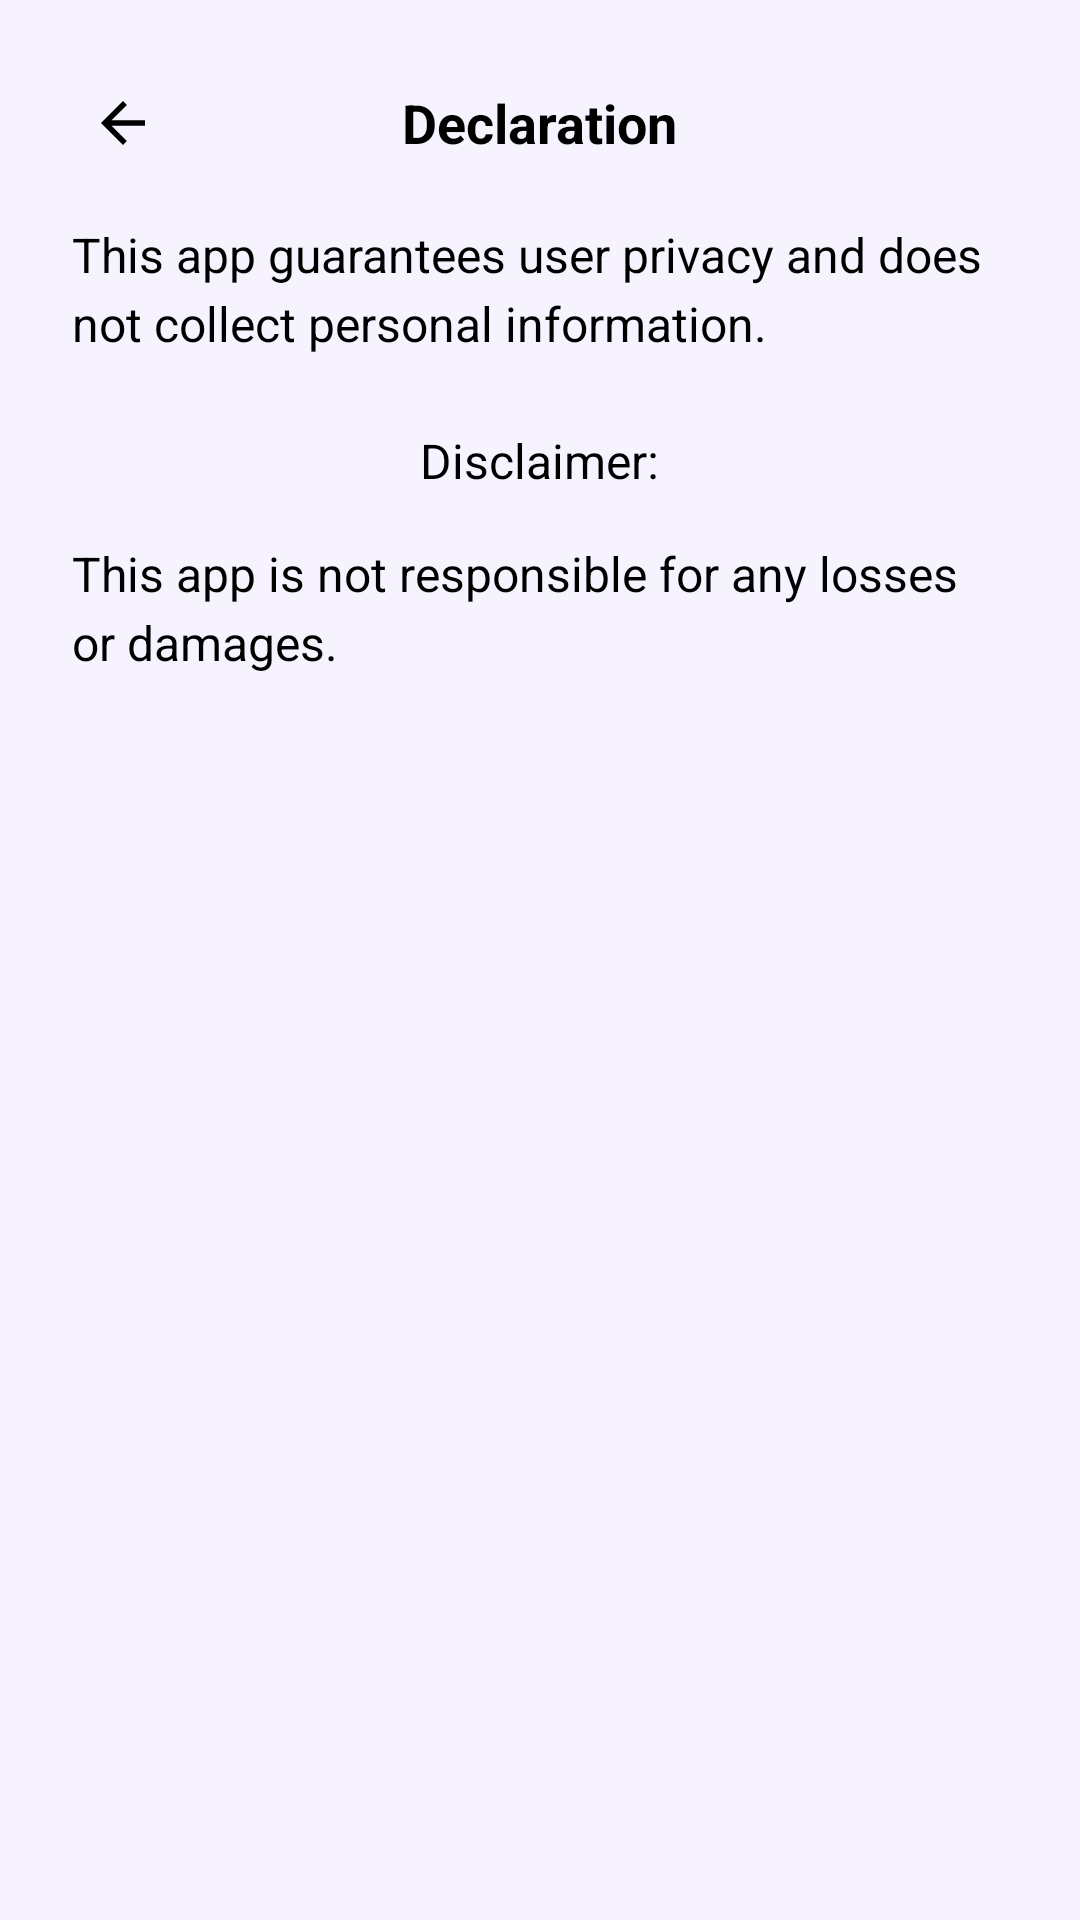

Locate icon controls on the screen. Image size 1080 × 1920, boxes as rect(x1, y1, x2, y2).
back: rect(101, 101, 145, 145)
